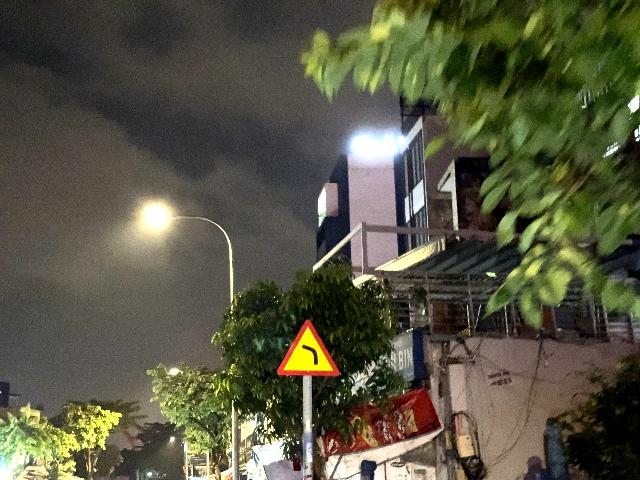cho-ngoat-nguy-hiem-ben-trai: (276, 318, 340, 378)
